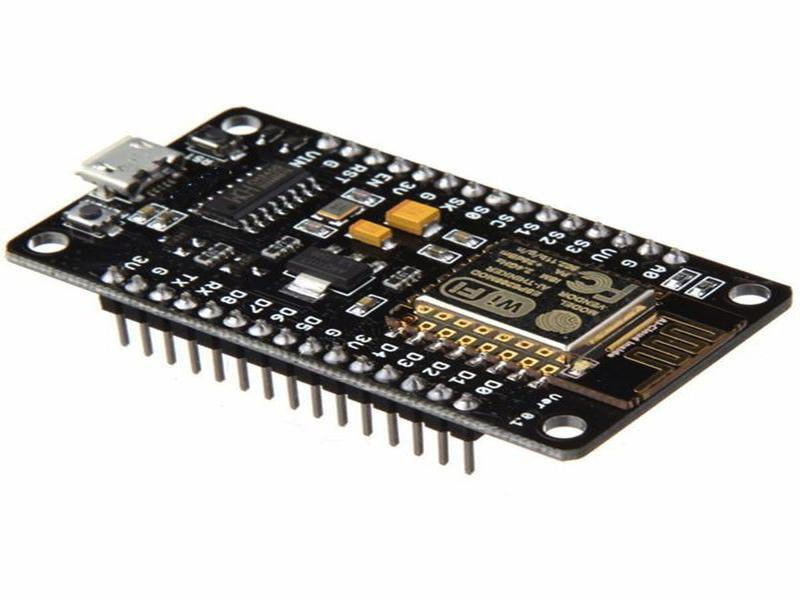ESP8266: (5, 93, 796, 487)
